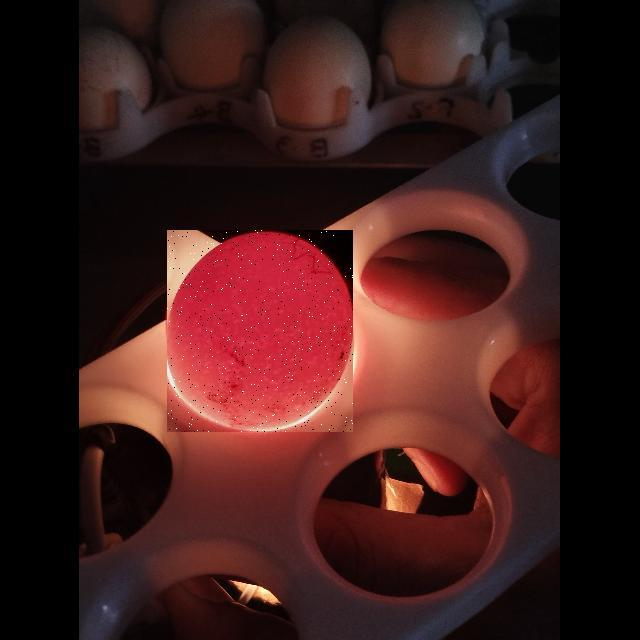Infertile: (167, 230, 353, 432)
